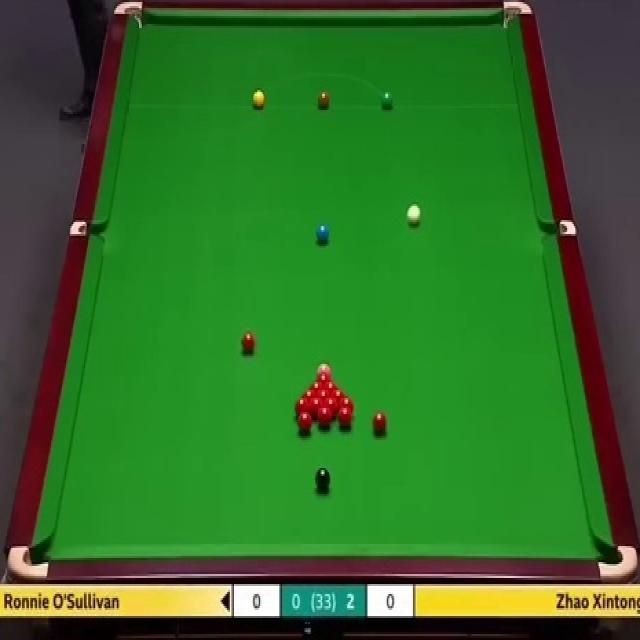pocket: (597, 545, 640, 583), (6, 546, 50, 579), (501, 0, 534, 34), (111, 0, 143, 29), (537, 220, 578, 237), (70, 220, 107, 237)
